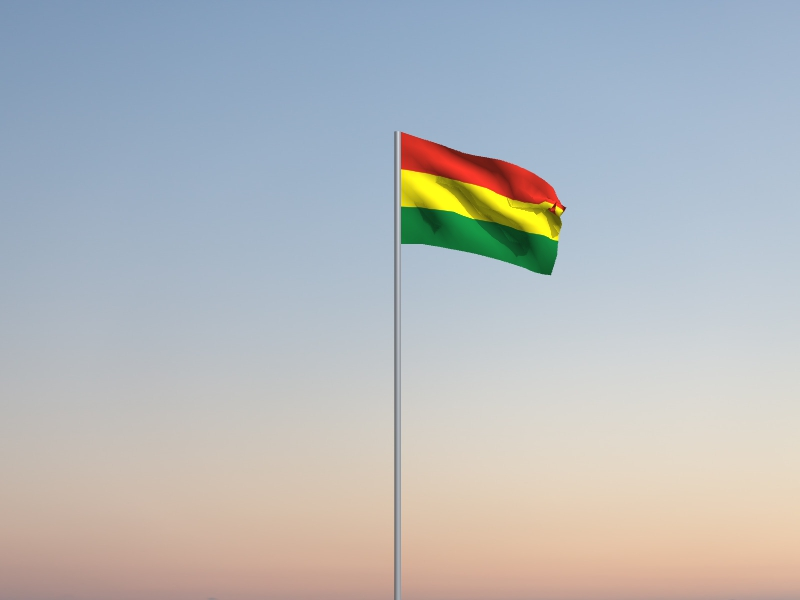bo: (402, 133, 569, 278)
